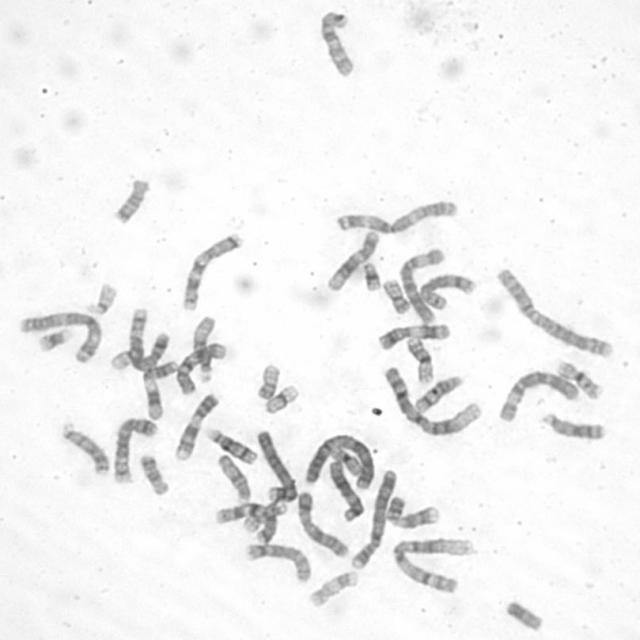A1: (378, 360, 484, 437), (386, 532, 476, 594)
A2: (490, 262, 616, 360), (299, 428, 377, 491)
A3: (330, 194, 461, 235), (13, 305, 103, 364)
B4: (346, 462, 400, 572), (251, 424, 298, 504)
B5: (123, 300, 178, 380), (108, 411, 160, 486)
C10: (171, 337, 228, 396), (314, 4, 356, 79)
C11: (137, 326, 171, 422), (372, 318, 452, 351)
C12: (321, 224, 381, 292), (322, 458, 364, 522)
C6: (493, 366, 579, 424), (392, 242, 447, 324)
C7: (177, 225, 246, 312), (209, 498, 278, 544)
C8: (240, 538, 314, 584), (414, 268, 477, 312)
C9: (169, 388, 220, 462), (382, 490, 442, 530)
D13: (54, 416, 110, 476), (536, 407, 607, 441)
D14: (201, 422, 259, 466), (410, 369, 466, 413)
D15: (185, 313, 224, 386), (212, 449, 252, 502)
E16: (552, 354, 604, 400), (401, 332, 436, 384)
E17: (303, 566, 359, 608), (237, 498, 289, 534)
E18: (108, 172, 151, 226), (134, 447, 171, 497)
F19: (258, 378, 300, 416), (328, 446, 366, 478)
F20: (250, 358, 282, 401), (378, 274, 412, 314)
G21: (32, 322, 72, 353), (357, 255, 382, 292)
G22: (80, 277, 119, 316), (103, 344, 145, 374)
X: (292, 486, 351, 559)
Y: (500, 595, 545, 632)
